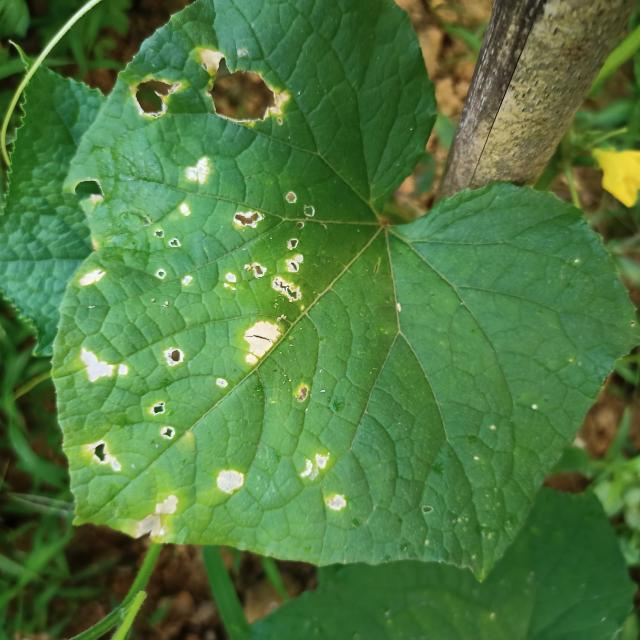disease_cucumber: (214, 186, 318, 306), (192, 46, 289, 134), (293, 448, 351, 511), (77, 339, 134, 389), (238, 313, 289, 367), (132, 72, 180, 124), (138, 494, 182, 540), (86, 437, 127, 477), (148, 394, 180, 440), (182, 152, 214, 190), (214, 464, 249, 496), (162, 342, 190, 372), (81, 266, 106, 293)
